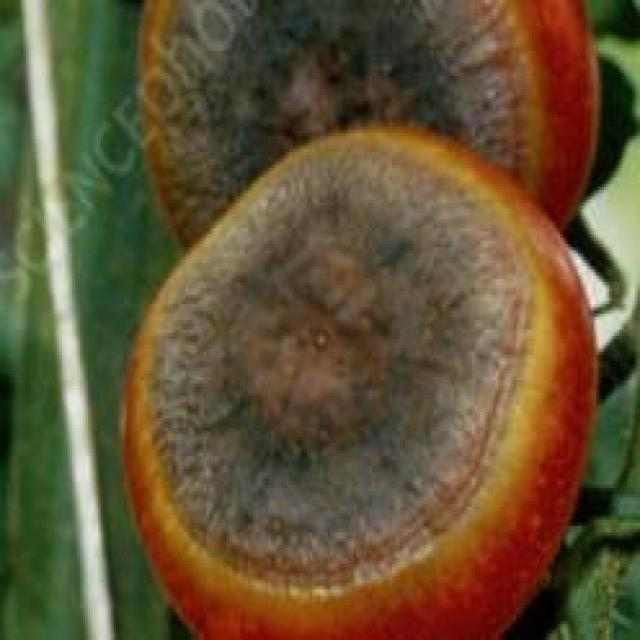Blossom End Rot Fruit: (218, 72, 307, 269)
